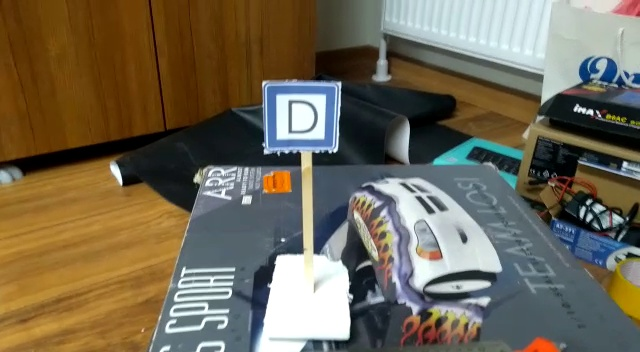durak: (264, 79, 342, 155)
